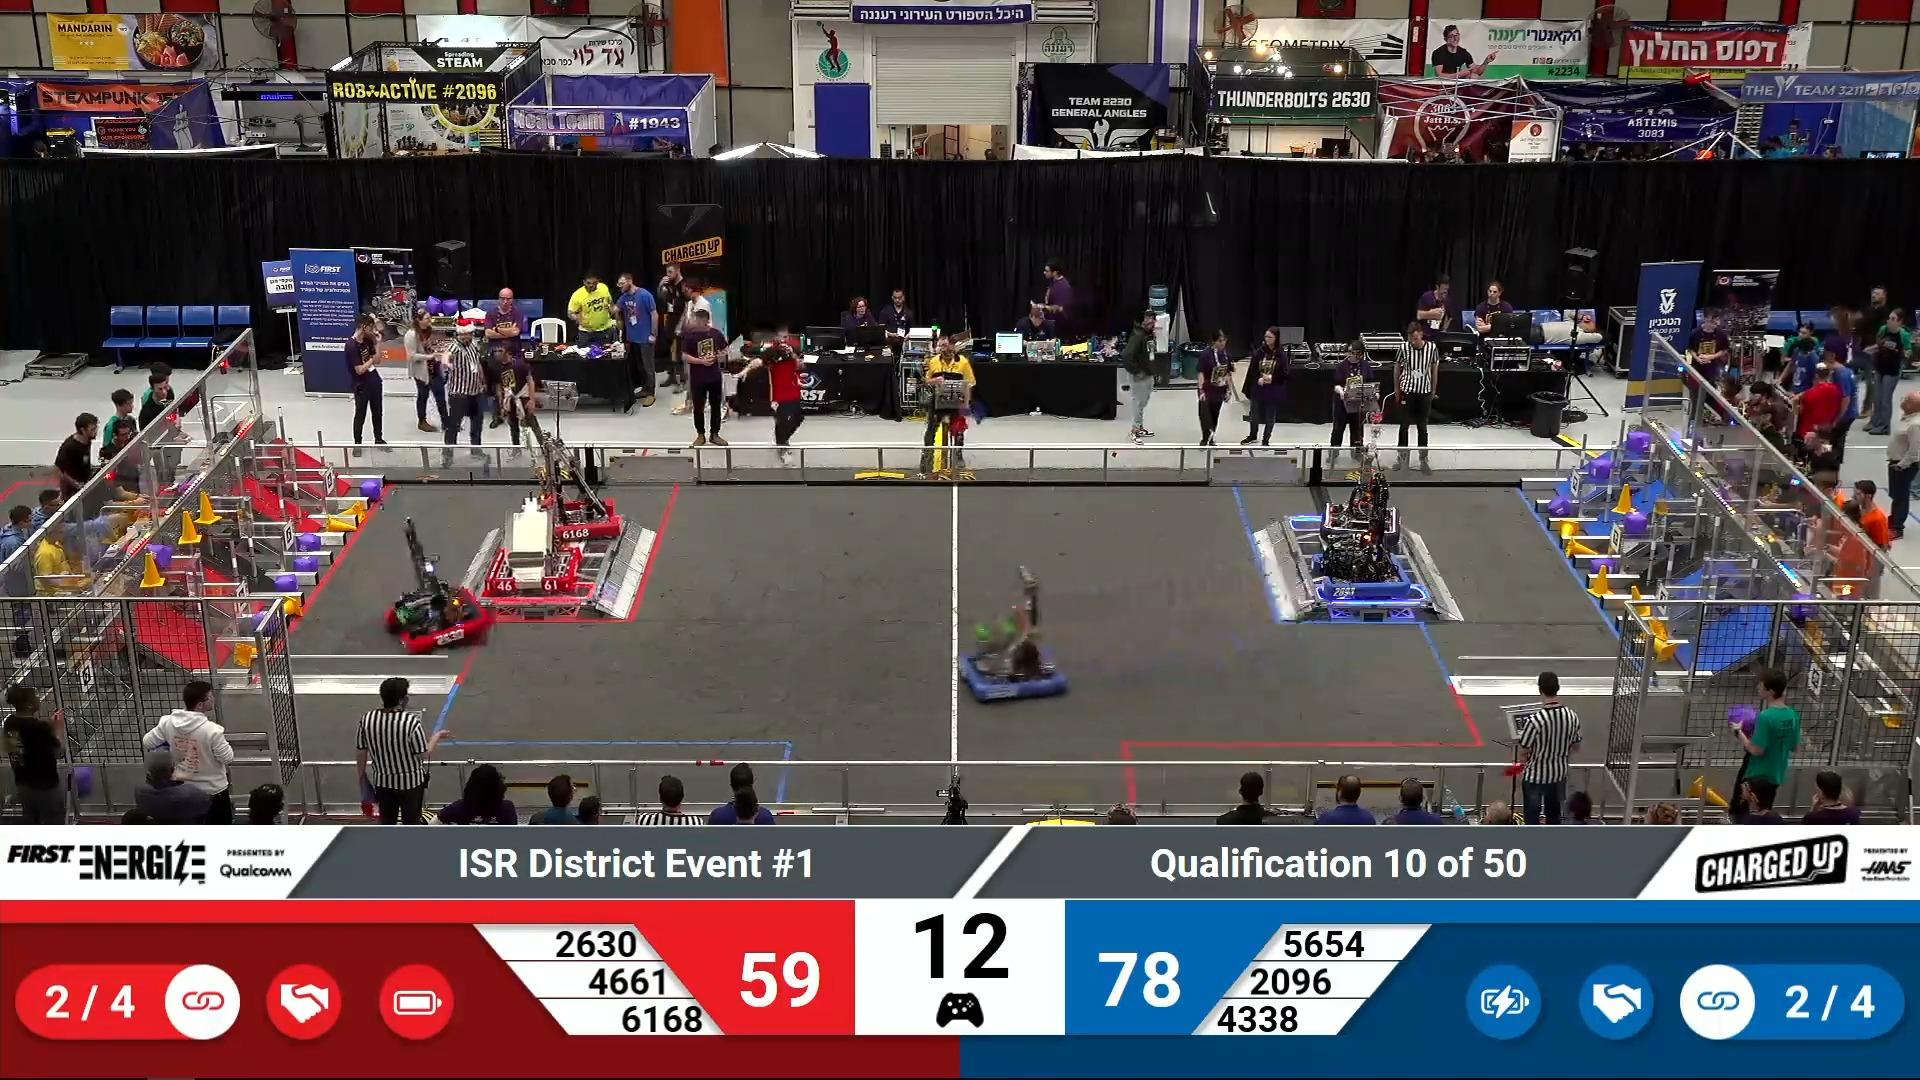robot: (952, 624, 1071, 713), (382, 567, 493, 654), (534, 462, 620, 542), (1307, 546, 1412, 604), (484, 537, 582, 596), (1317, 481, 1406, 545)
